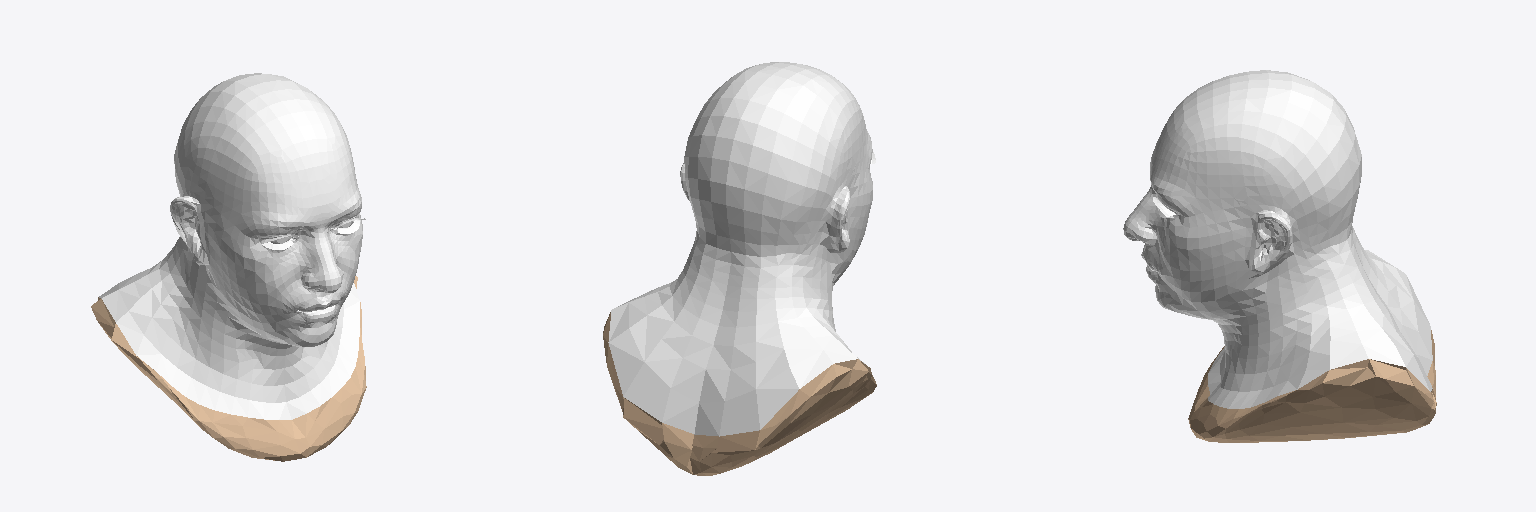
Rendered from Head_m.obj.
3 renders of one model, left to right at view 1: azimuth 30°, elevation 25°; view 2: azimuth 150°, elevation 25°; view 3: azimuth 270°, elevation 25°, orthographic.
Parts seen in each view (by area): view 1: BodyParts; view 2: BodyParts; view 3: BodyParts.
Part boxes in pixels (bbox=[...]): BodyParts: bbox=[91, 73, 366, 461]; BodyParts: bbox=[603, 62, 876, 475]; BodyParts: bbox=[1123, 70, 1436, 442].
Size of the model in its own units: 27.78 by 38.23 by 30.66.